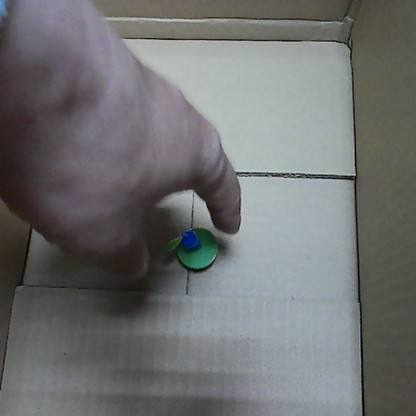leafairy: (157, 223, 220, 274)
